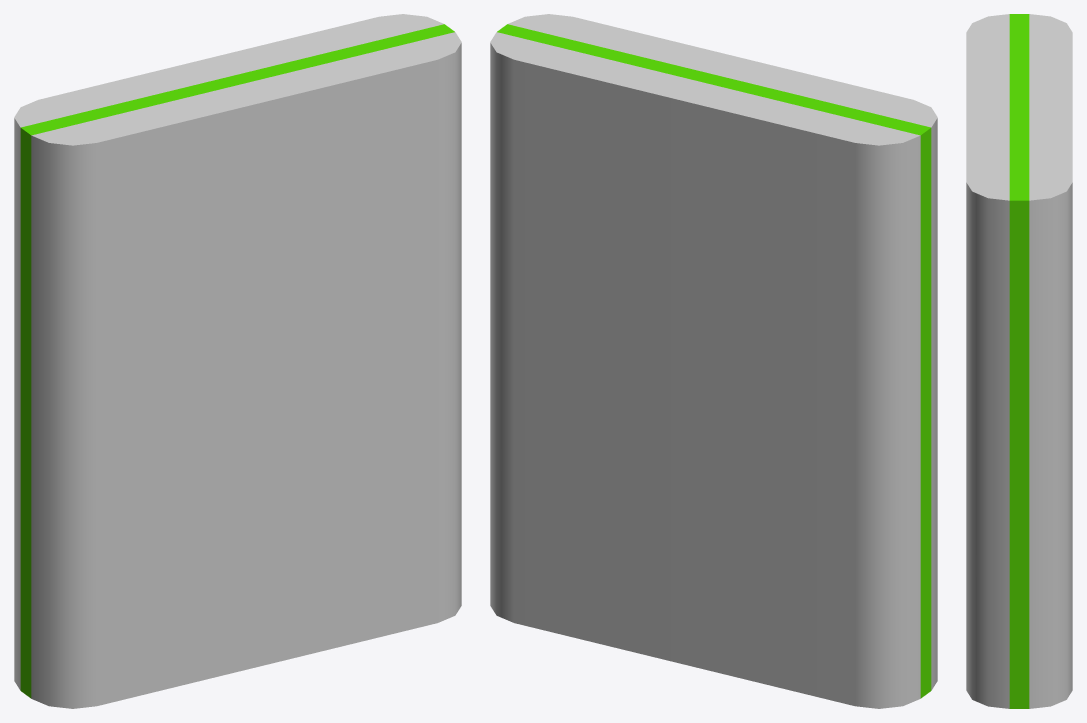
Rendered from Road.fbx.
The picture shows the model from 3 angles, left to right: view 1: azimuth 30°, elevation 25°; view 2: azimuth 150°, elevation 25°; view 3: azimuth 270°, elevation 25°; orthographic projection. The views are drawn at different scales.
Visible parts, largest first — view 1: Straight; view 2: Straight; view 3: Straight.
Boxes of the visible parts, <box> form: Straight: <box>14,14,461,708</box>; Straight: <box>490,14,937,708</box>; Straight: <box>966,14,1072,708</box>.
Size of the model in its own units: 12.28 by 15.59 by 2.95.
